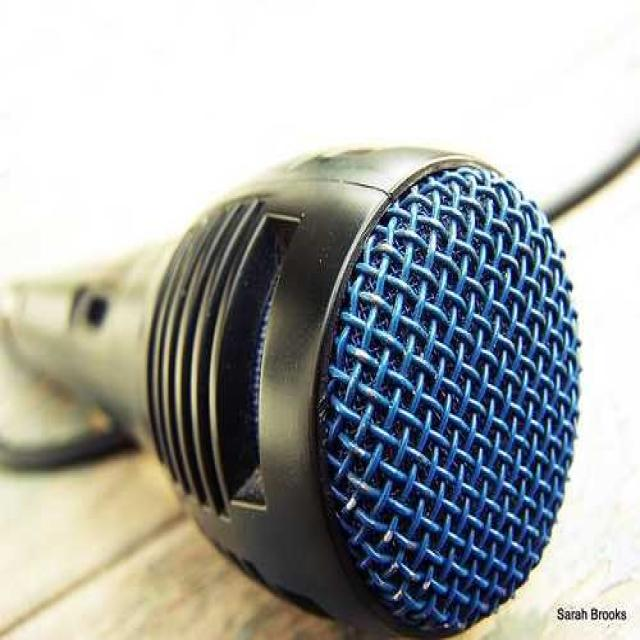microphone: (162, 142, 608, 638)
